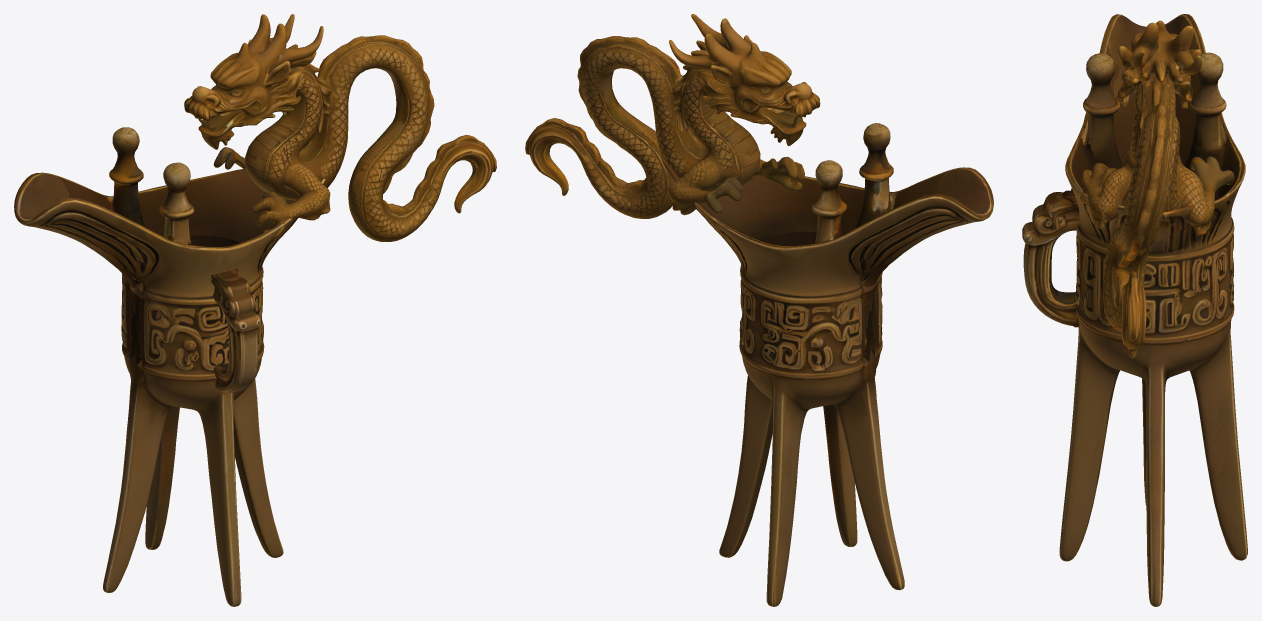
File: Jue-cup-dragon2.fbx
The picture shows the model from 3 angles, left to right: view 1: azimuth 30°, elevation 25°; view 2: azimuth 150°, elevation 25°; view 3: azimuth 270°, elevation 25°; orthographic projection. The views are drawn at different scales.
Visible parts, largest first — view 1: Jue_Cup; view 2: Jue_Cup; view 3: Jue_Cup.
Part boxes in pixels (x1,y1,x2,y2): Jue_Cup: [14, 14, 496, 606]; Jue_Cup: [525, 14, 993, 606]; Jue_Cup: [1022, 14, 1247, 606].
Bounding box in the file's own units: 14.59 × 15.9 × 5.57.
Materials: 2 (2 with a texture image).
